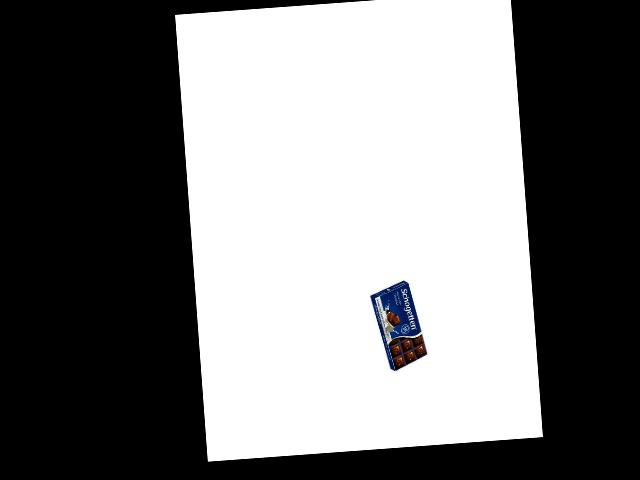chocolate: (376, 277, 428, 372)
